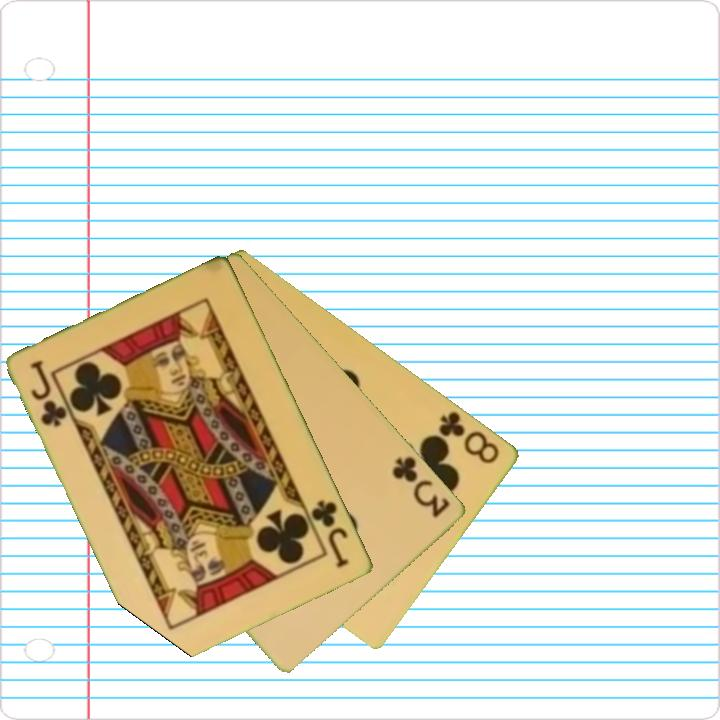3c: (389, 452, 454, 521)
8c: (435, 407, 503, 467)
Jc: (308, 496, 352, 571), (27, 356, 71, 430)
